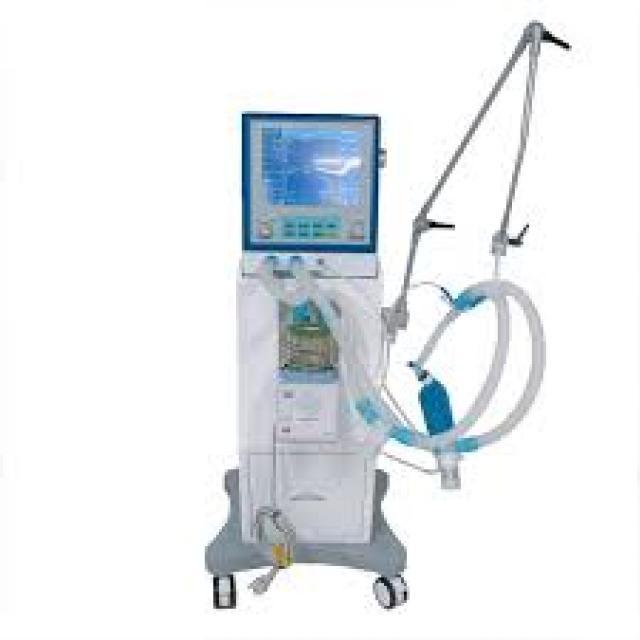ventilator: (171, 40, 612, 640)
